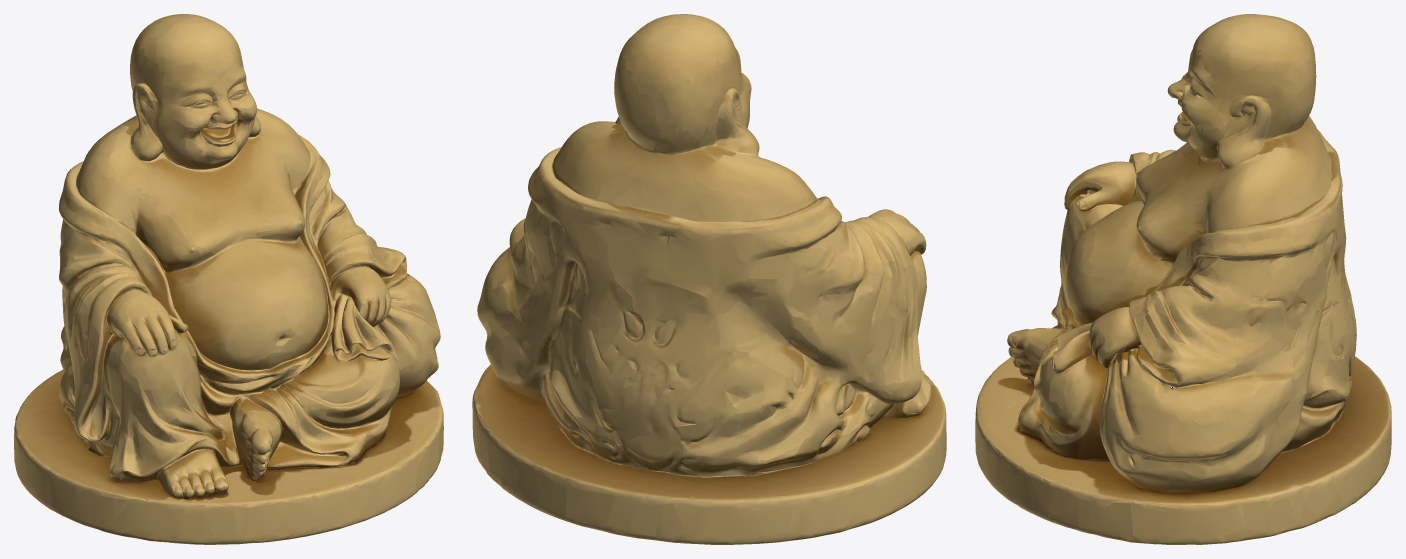
File: statue-budai.glb
The picture shows the model from 3 angles, left to right: view 1: azimuth 30°, elevation 25°; view 2: azimuth 150°, elevation 25°; view 3: azimuth 270°, elevation 25°; orthographic projection. The views are drawn at different scales.
Visible parts, largest first — view 1: output_unwrapped; view 2: output_unwrapped; view 3: output_unwrapped.
Boxes of the visible parts, x1=… form: output_unwrapped: x1=14, y1=14, x2=443, y2=544; output_unwrapped: x1=472, y1=14, x2=946, y2=544; output_unwrapped: x1=975, y1=14, x2=1391, y2=544.
Bounding box in the file's own units: 1.85 × 1.9 × 1.67.
Materials: 1 (1 with a texture image).
